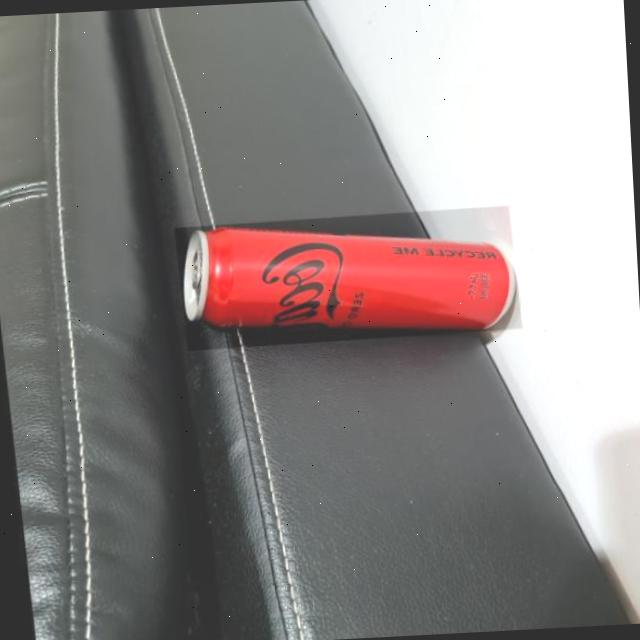trash: (177, 213, 513, 348)
